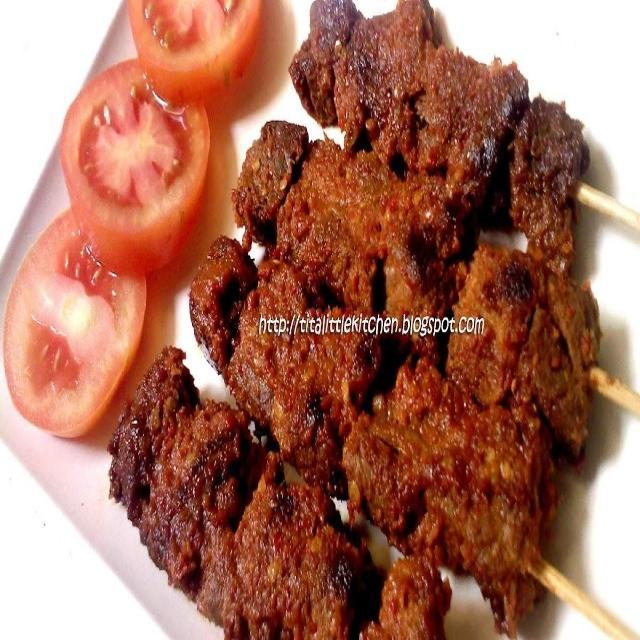Sate: (158, 32, 597, 640)
